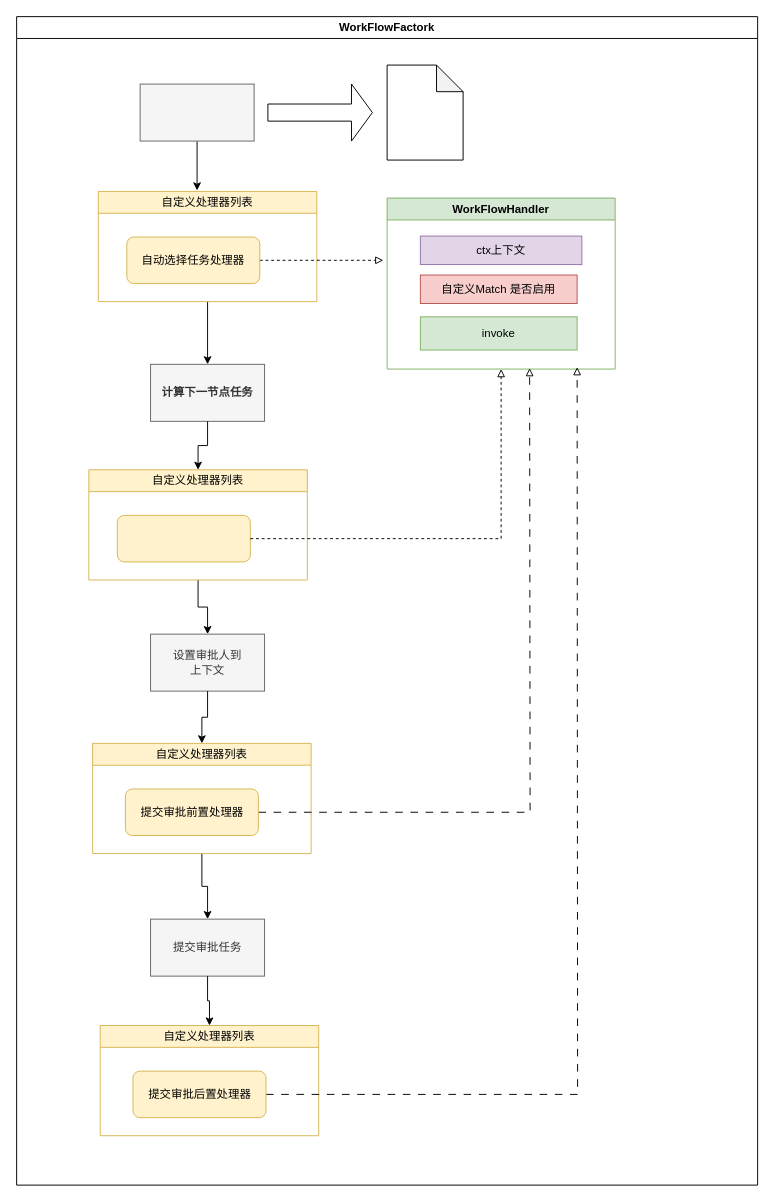
The diagram is 774 pixels wide and 1202 high, and some of its shapes have lost their labels. Here are the shapes that lost their labels. From the top down, the centre of each, then its label:
point (196, 112): 查询当前任务节点
point (319, 112): 填充到上下文
point (424, 112): ctx 上下文
point (183, 538): 自动选择审批人处理器
